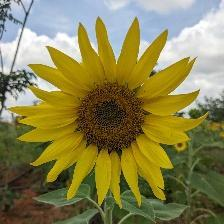sunflower: (27, 17, 191, 205), (174, 139, 189, 154)
